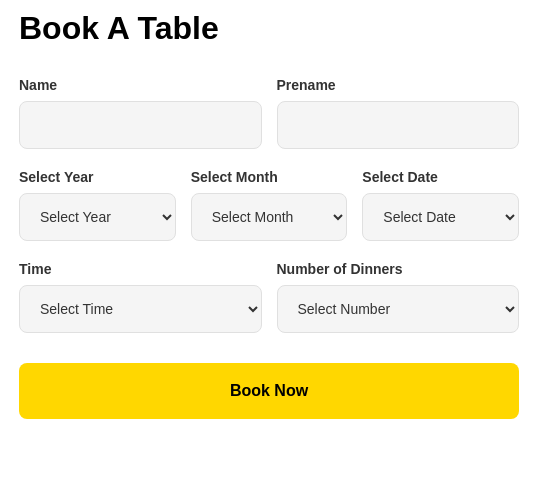
BookingForm › shows validation errors for empty required fields
What coordinates should you click on to do the following:
click the button "Book Now"
I would click on:
 (269, 391)
Its box is [19,363,519,419].
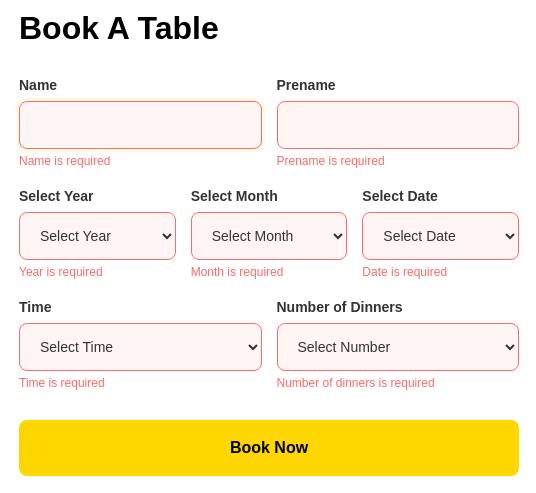
Expected: the text "Name is required" is shown, [19,154,110,168]
Expected: the text "Prename is required" is shown, [276,154,385,168]
Expected: the text "Year is required" is shown, [19,265,103,279]
